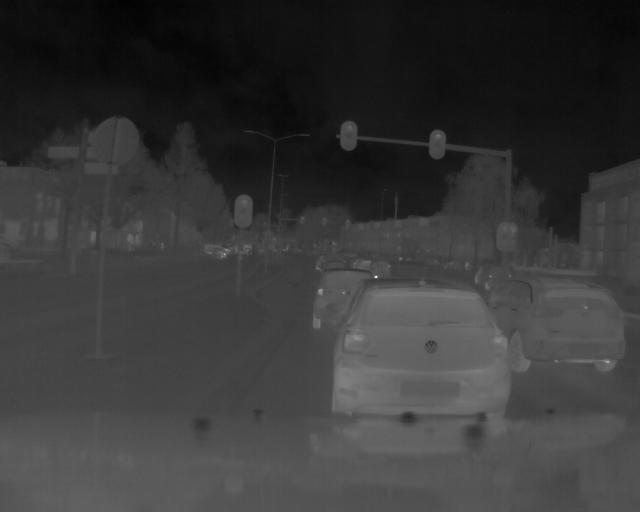car: (328, 271, 509, 407), (479, 270, 630, 378), (305, 262, 370, 330)
